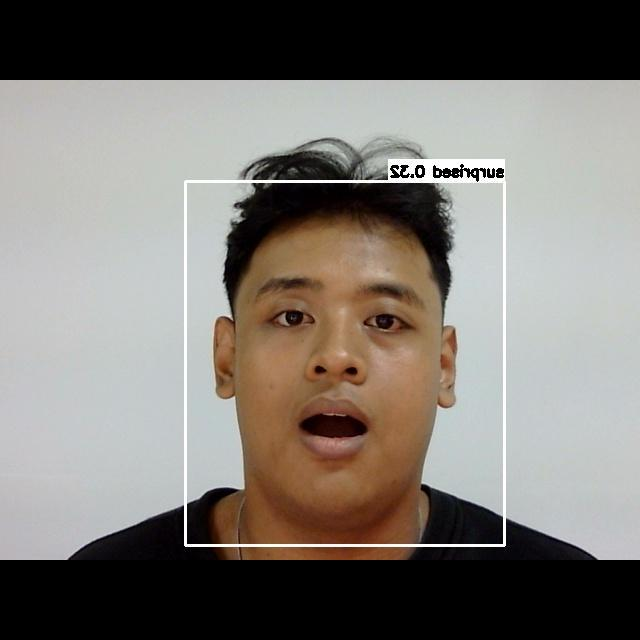Surprised: (226, 257, 446, 481)
